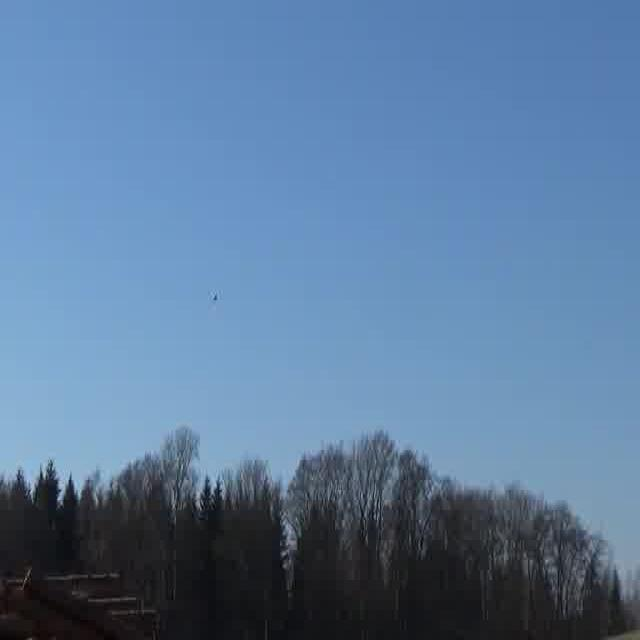bird: (206, 290, 219, 308)
